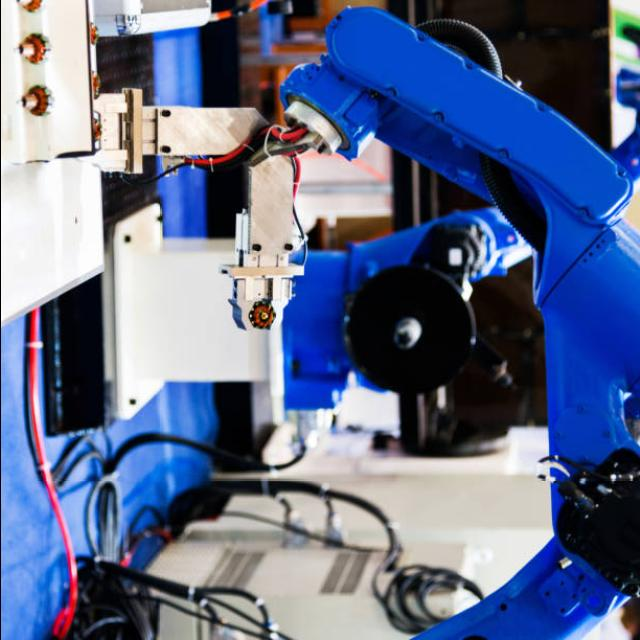Robotic-arm: (290, 1, 640, 640)
